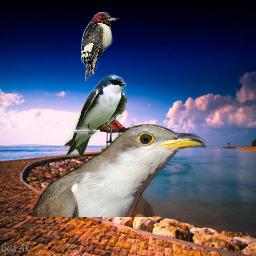Cuckoo: (33, 124, 206, 217)
Swallow: (63, 74, 127, 157)
Woodpecker: (81, 12, 119, 81)
